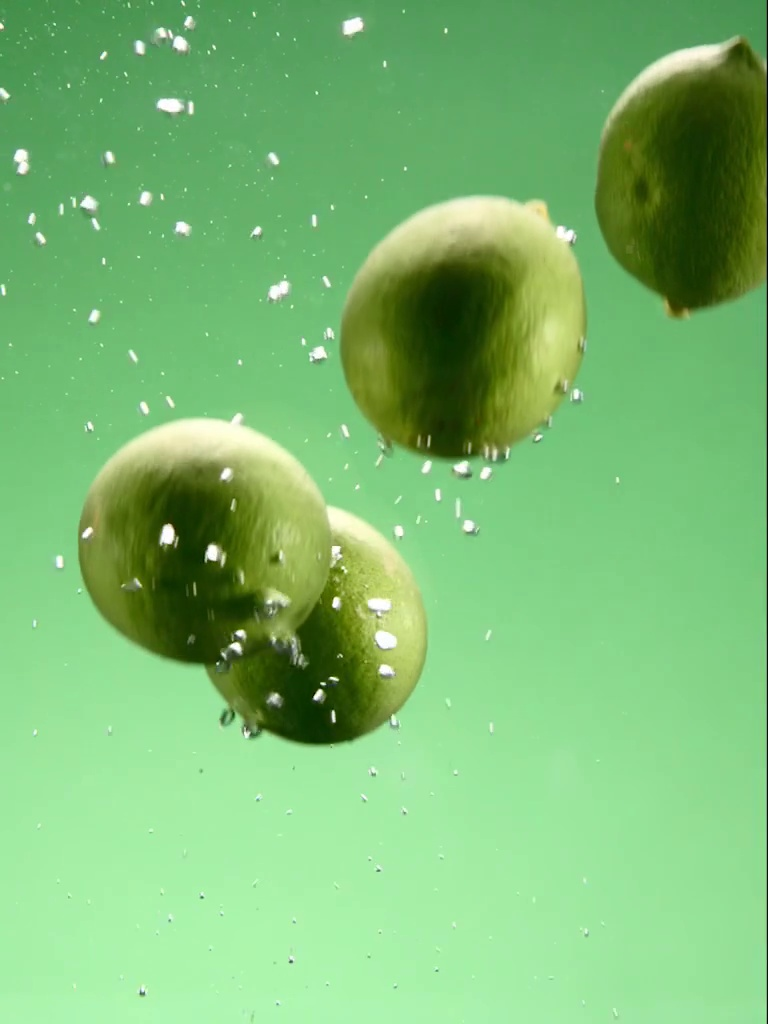Orange: (344, 183, 587, 461)
